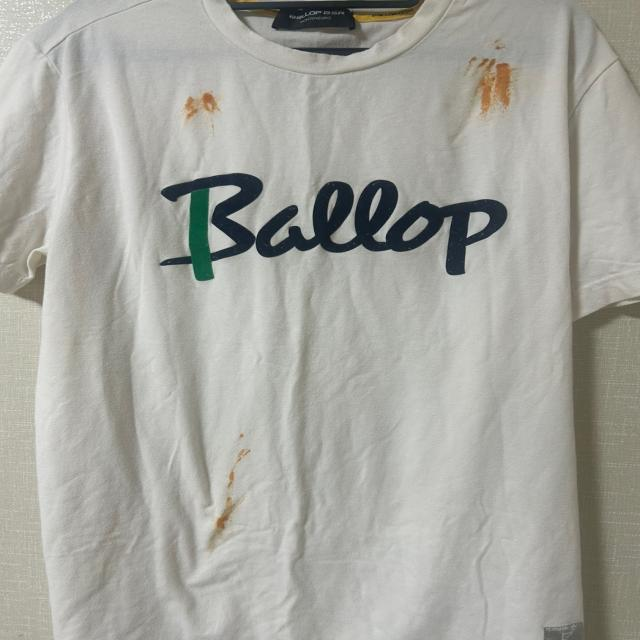stain: (465, 53, 519, 118), (185, 92, 224, 121), (232, 429, 260, 468), (216, 497, 240, 533), (224, 464, 245, 490), (492, 38, 507, 52)
